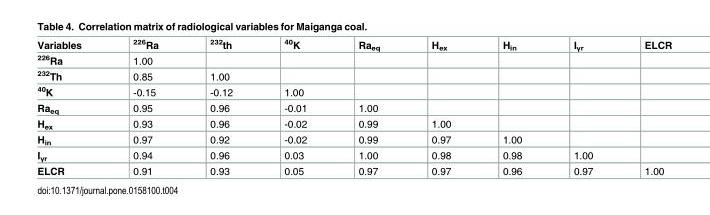table: (36, 36, 671, 176)
table column: (106, 36, 183, 176), (257, 36, 332, 176), (183, 36, 257, 176), (332, 36, 405, 176), (405, 36, 476, 176), (476, 36, 547, 176), (547, 36, 618, 176), (36, 36, 106, 176), (618, 36, 671, 176)
table row: (36, 82, 671, 99), (36, 51, 671, 67), (36, 99, 671, 115), (36, 115, 671, 131), (36, 131, 671, 147), (36, 36, 671, 51), (36, 67, 671, 82), (36, 147, 671, 162), (36, 162, 671, 176)
